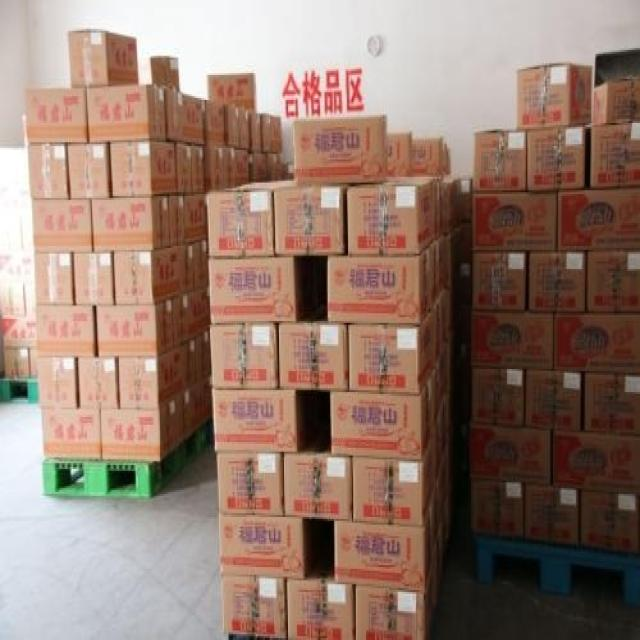box: (331, 372, 434, 460), (328, 242, 435, 326), (334, 507, 432, 591), (353, 430, 436, 526), (350, 304, 437, 394), (355, 549, 436, 638), (347, 179, 435, 256), (293, 115, 387, 185), (208, 182, 294, 257), (208, 255, 296, 323), (219, 514, 304, 579), (212, 389, 297, 452), (275, 182, 349, 254), (554, 430, 639, 492), (471, 423, 550, 487), (558, 188, 639, 250), (101, 397, 179, 461), (472, 193, 557, 251), (517, 63, 592, 128), (555, 315, 639, 373), (471, 312, 553, 369), (87, 84, 166, 143), (119, 341, 188, 408), (92, 194, 170, 252), (279, 324, 347, 390), (96, 298, 173, 356), (284, 454, 351, 520), (210, 323, 277, 389), (114, 245, 187, 305), (218, 452, 282, 516), (68, 30, 138, 88), (287, 580, 353, 638), (527, 124, 585, 190), (111, 140, 177, 197), (223, 578, 285, 638), (581, 491, 638, 554), (24, 88, 88, 142), (585, 123, 639, 187), (529, 251, 585, 312), (472, 129, 527, 191), (585, 371, 639, 434), (32, 199, 93, 253), (527, 369, 580, 431), (525, 485, 579, 545), (471, 479, 523, 539), (473, 252, 526, 310), (36, 305, 95, 357), (42, 409, 102, 460), (588, 251, 639, 311), (473, 369, 523, 427), (68, 142, 111, 199), (164, 88, 206, 145), (27, 143, 69, 199), (173, 288, 210, 348), (179, 377, 212, 444), (592, 79, 639, 124), (204, 145, 249, 192), (34, 254, 75, 305), (37, 357, 77, 409), (78, 357, 118, 408), (74, 253, 113, 305), (207, 74, 256, 112), (432, 341, 450, 425), (189, 329, 211, 388), (435, 233, 452, 302), (386, 134, 412, 178), (186, 239, 208, 291), (413, 138, 443, 176), (435, 179, 454, 239), (184, 193, 206, 243), (226, 105, 250, 150), (436, 287, 451, 358), (150, 56, 179, 91), (205, 100, 225, 147), (176, 143, 192, 193), (169, 195, 185, 245), (262, 114, 283, 152), (192, 146, 204, 193), (250, 151, 267, 181), (250, 111, 261, 153), (267, 153, 283, 180)
